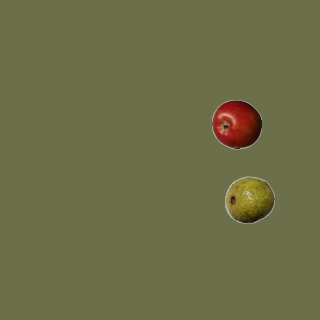Apple Braeburn: (211, 99, 261, 149)
Guava: (224, 174, 274, 224)
